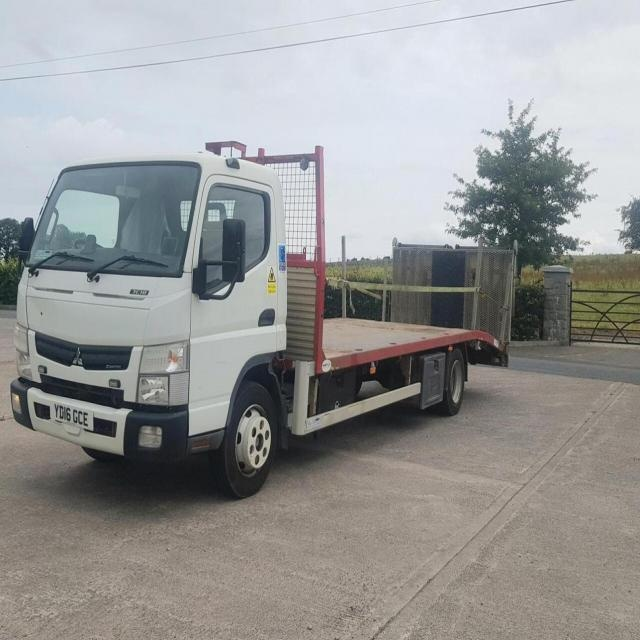Truck: (12, 138, 508, 492)
